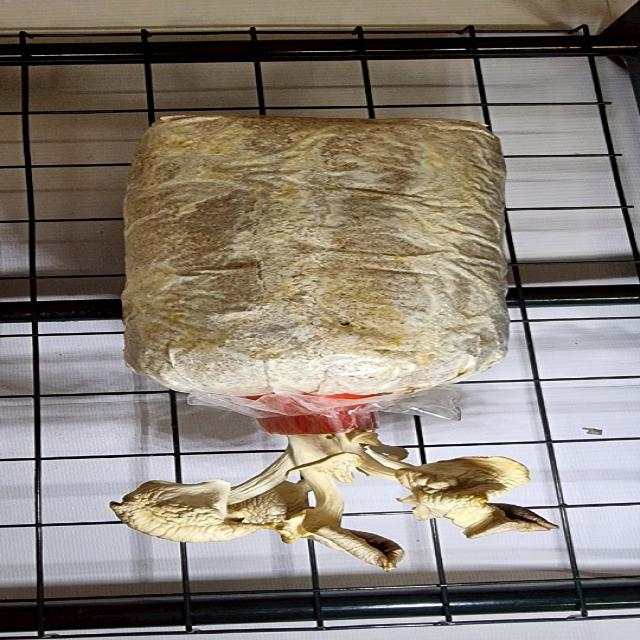abnormal: (96, 412, 565, 570)
